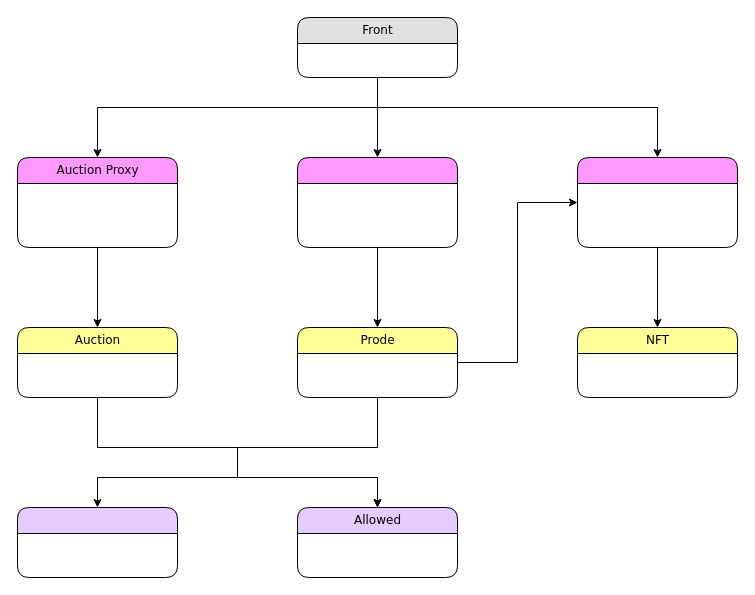
Image size: 755x595. Some labels were removed from this diagram. The centre of each missing label's shape, as x and y in pixels:
Cryptolink: the point at 97,542
NFT Proxy: the point at 657,202
Prode Proxy: the point at 377,202
